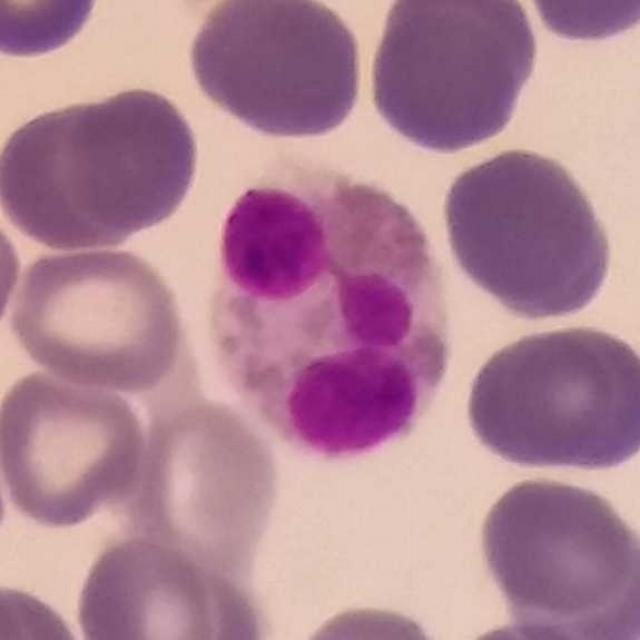eosino: (208, 160, 455, 463)
